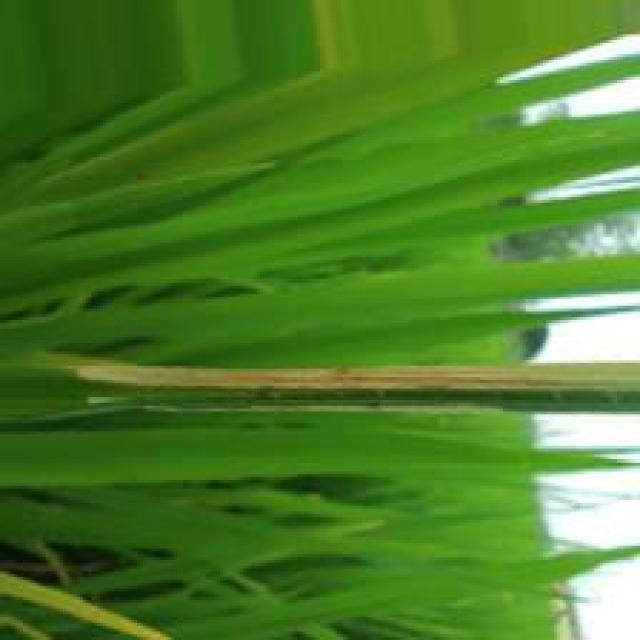Rice_Hispa: (66, 361, 640, 393)
